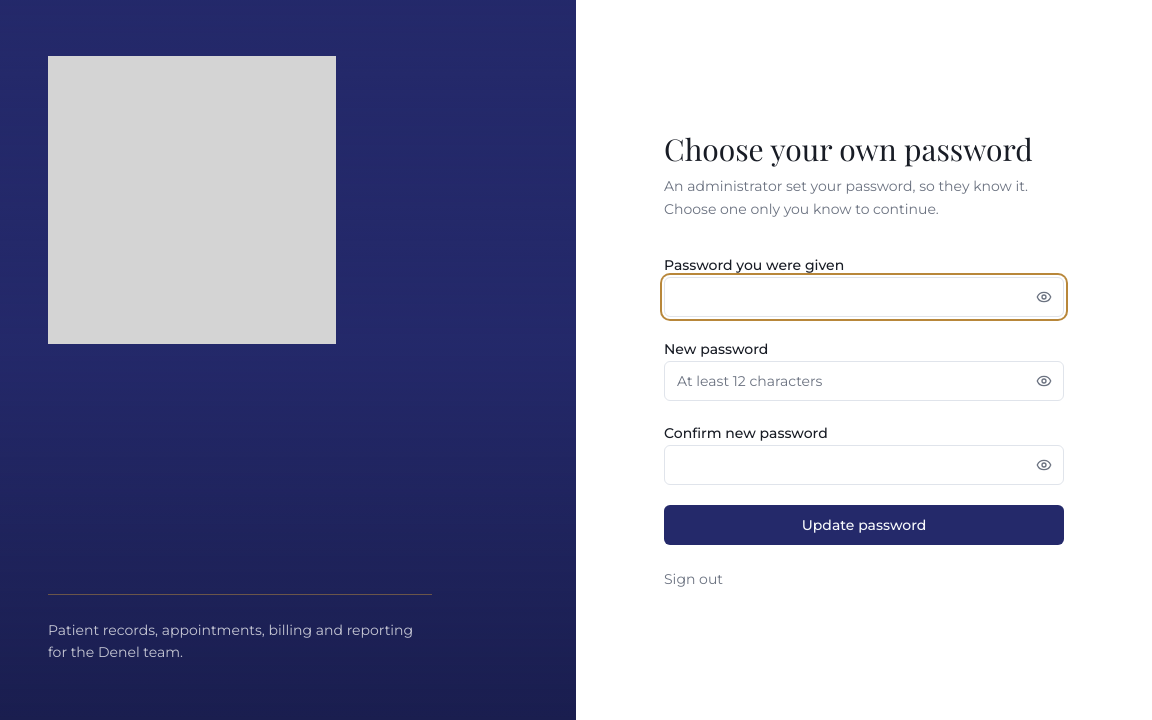
Test: the change-password screen › keeps the person on the screen, with the reason, when the server refuses
Type "Given-By-The-Admin-1" into the password field labelled "Password you were given" at (864, 297), box [664, 277, 1064, 317]
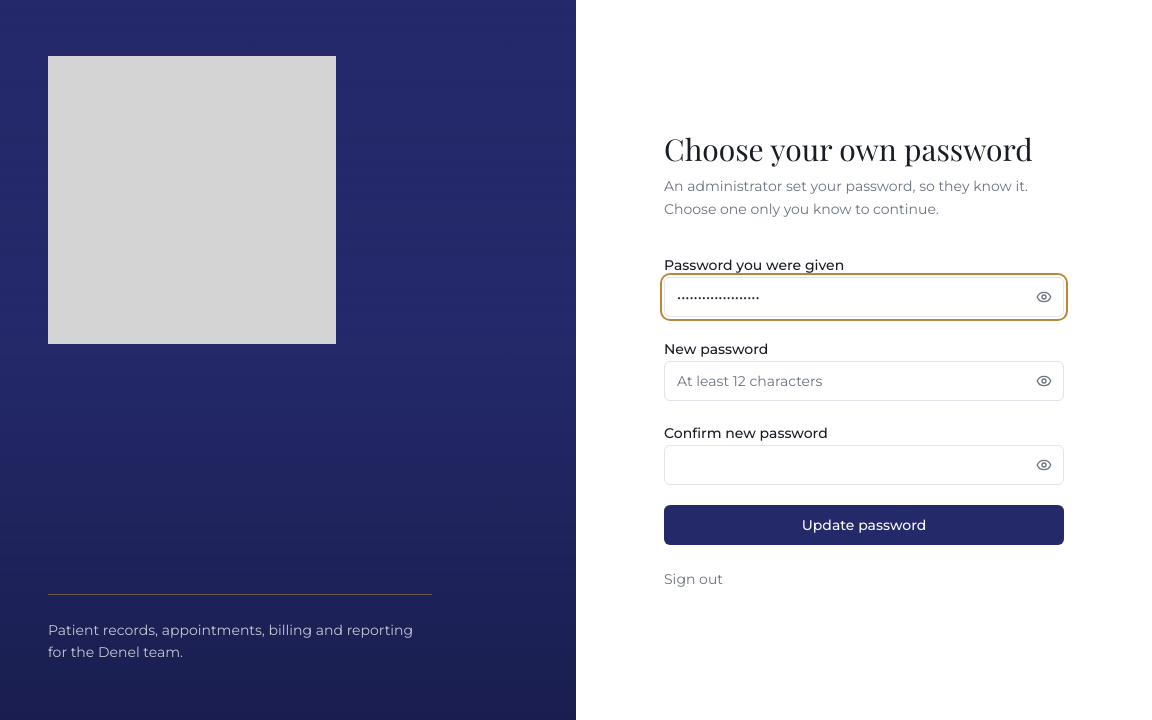
Type "Chosen-By-Me-Alone-2" into the password field labelled "New password" at (864, 381), box [664, 361, 1064, 401]
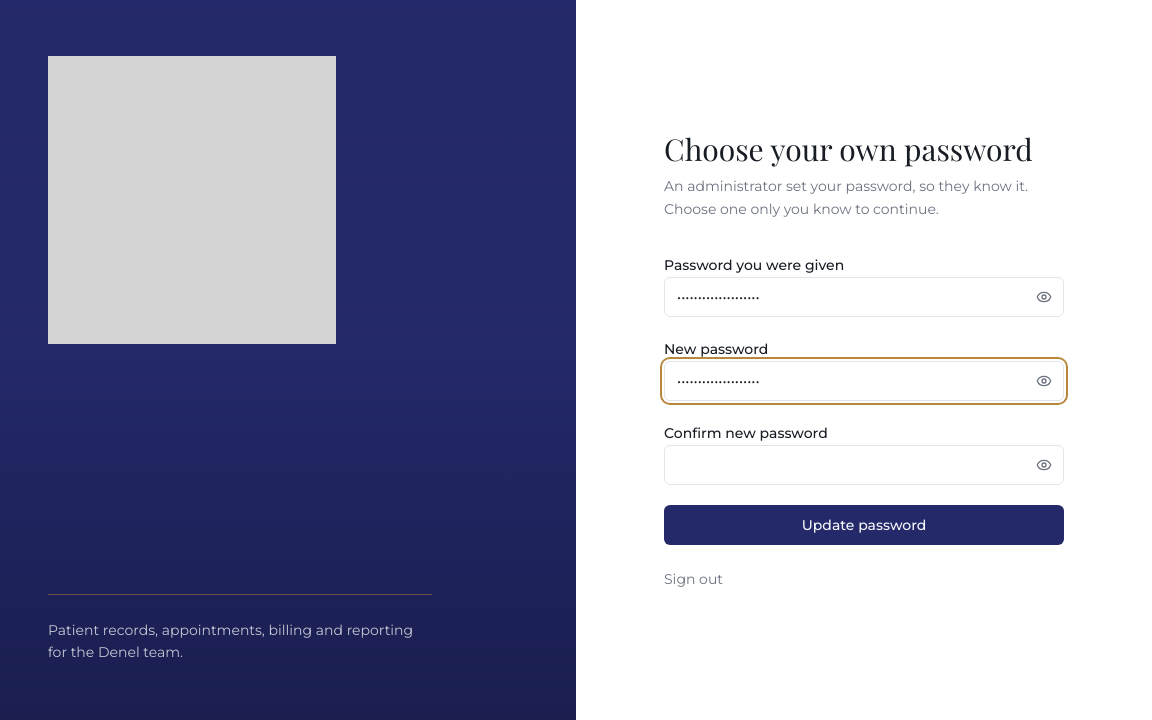
Type "Chosen-By-Me-Alone-2" into the password field labelled "Confirm new password" at (864, 465), box [664, 445, 1064, 485]
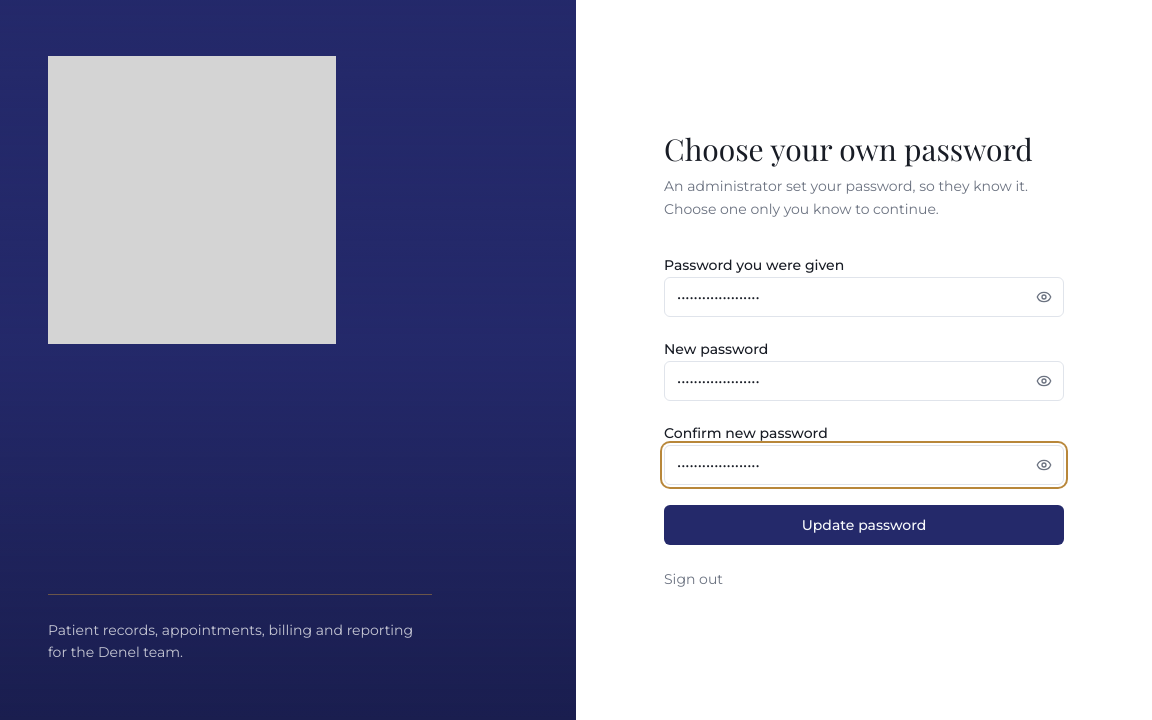
Click the button "Update password" at (864, 525), box [664, 505, 1064, 545]
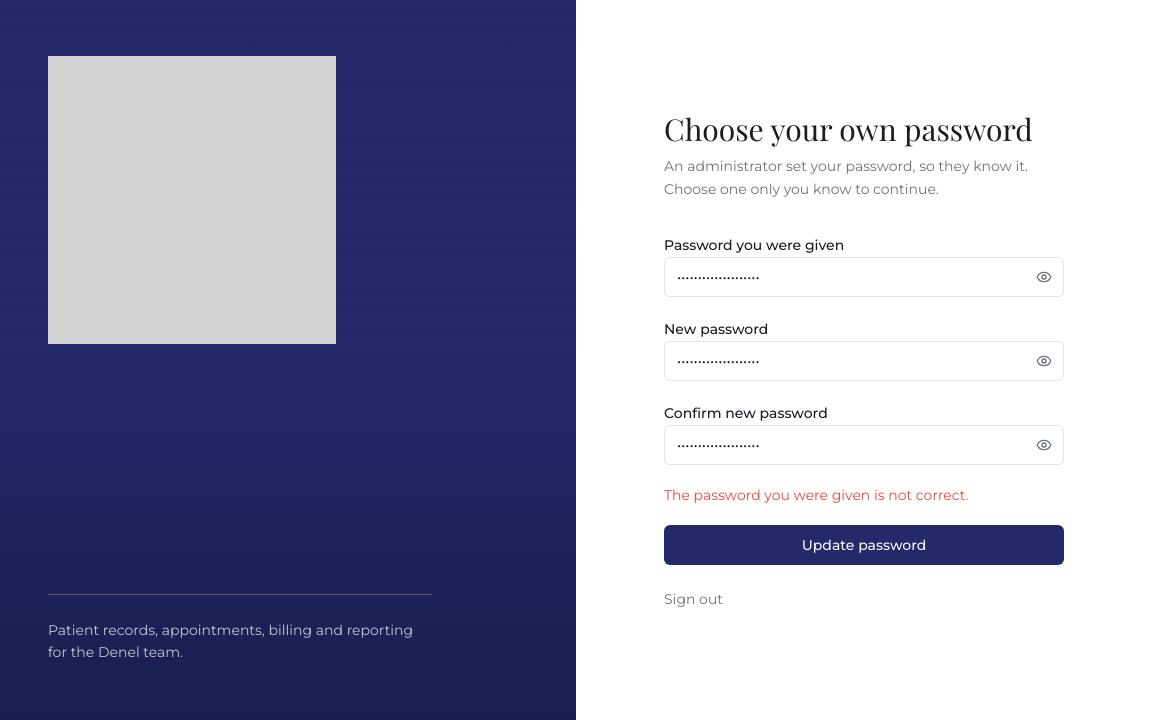
Check: the message shows "not correct", box [664, 486, 968, 504]
